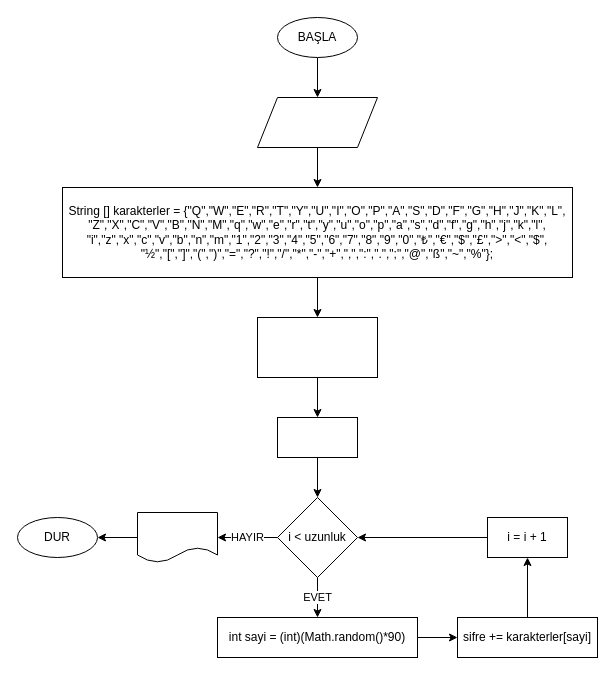
Image size: 615x675. Some labels were removed from this diagram. The centre of each missing label's shape, as x and y in pixels:
i = 0: the point at 317,437
sifre: the point at 177,537
String sifre = "": the point at 317,347
uzunluk: the point at 317,122
